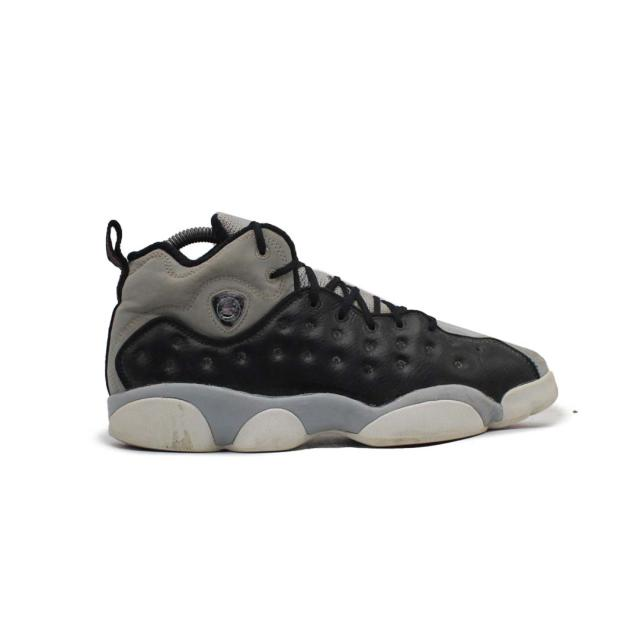heel: (91, 195, 160, 389)
midsole: (108, 374, 558, 454)
uppersole: (154, 196, 567, 387)
